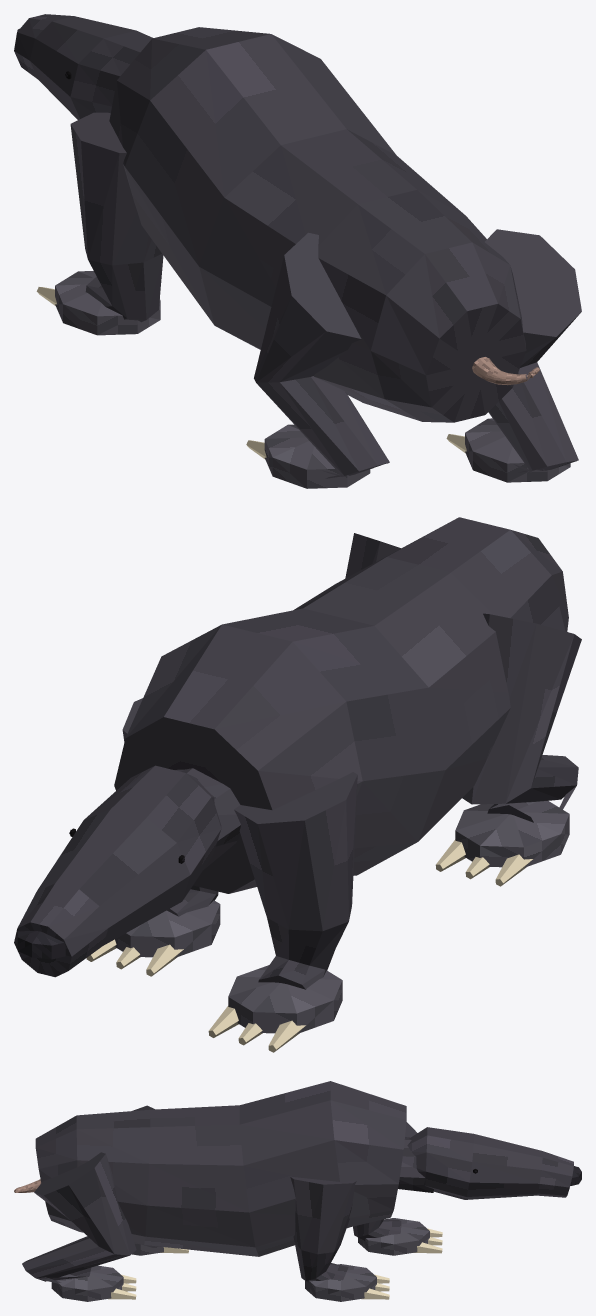
Rendered from mon_mole.glb.
3 renders of one model, top to bottom at view 1: azimuth 30°, elevation 25°; view 2: azimuth 150°, elevation 25°; view 3: azimuth 270°, elevation 25°, orthographic. The views are drawn at different scales.
Visible parts, largest first — view 1: closed_body; view 2: closed_body; view 3: closed_body.
Part boxes in pixels (x1,y1,x2,y2): closed_body: (14, 14, 581, 488); closed_body: (14, 517, 581, 1052); closed_body: (14, 1081, 581, 1301).
Size of the model in its own units: 0.0671 by 0.0802 by 0.2218.
Materials: 1 (1 with a texture image).
